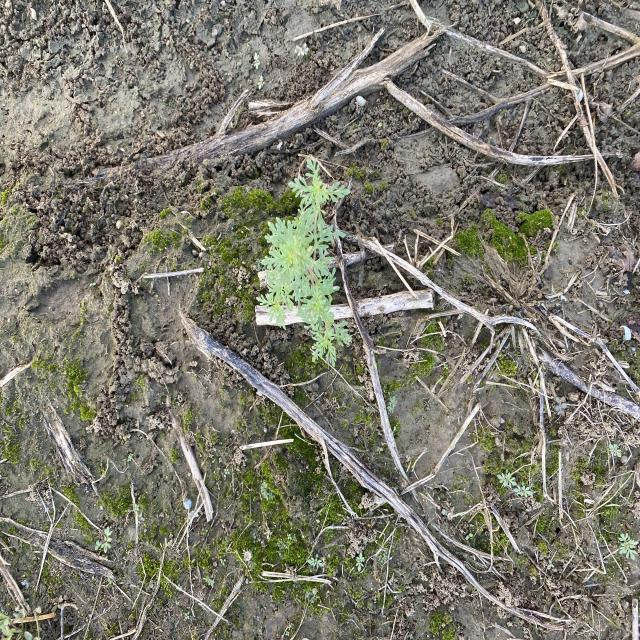Ragweed: (255, 157, 353, 368), (616, 531, 638, 563)
